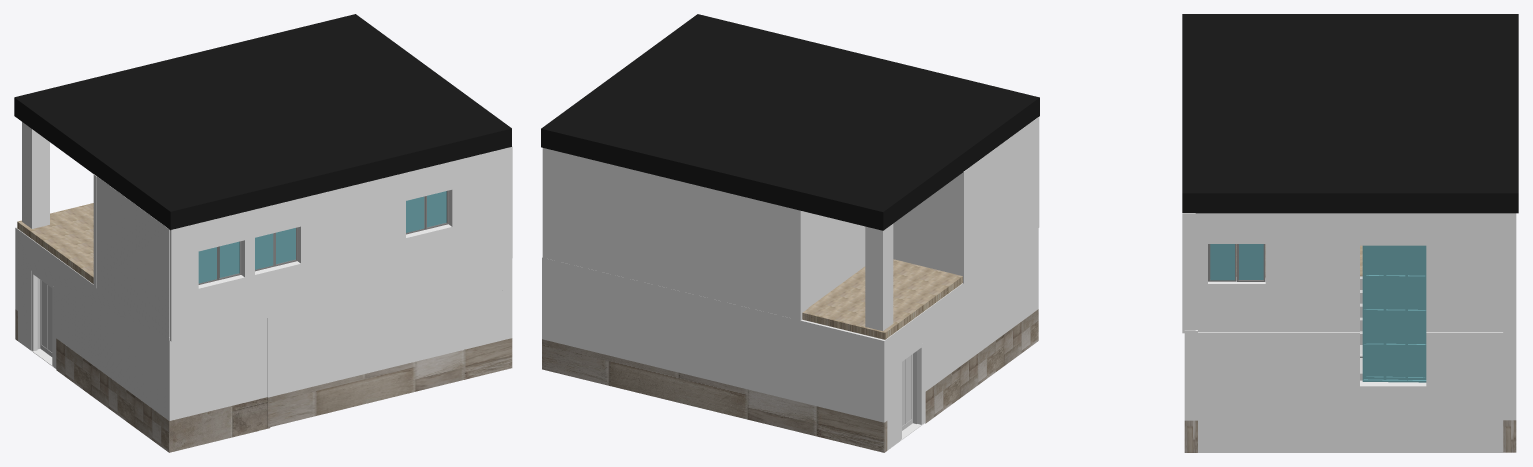
3 renders of one model, left to right at view 1: azimuth 30°, elevation 25°; view 2: azimuth 150°, elevation 25°; view 3: azimuth 270°, elevation 25°, orthographic. The views are drawn at different scales.
Parts seen in each view (by area): view 1: 房子屋頂, 二樓右牆, 二樓左牆001, 一樓正牆, 一樓右牆001, Box055, Box080, 750.695.20地板, 陽台柱子, PivotDoor004, 一樓右牆, Rectangle027 (+6 smaller); view 2: 房子屋頂, 一樓左牆, 二樓左牆, 一樓正牆, Box055, 750.695.20地板, 陽台外牆01, 陽台外牆, Box080, 陽台柱子, PivotDoor004, 一樓右牆001 (+1 smaller); view 3: 房子屋頂, 一樓後牆, 二樓後牆, FixedWindow001, 二樓左牆, 二樓左牆001, 一樓左牆, 二樓右牆, Rectangle013, Rectangle011.
Boxes of the visible parts, box(x1,y1,x2,y2) form: 房子屋頂: box(14, 14, 511, 230); 二樓右牆: box(169, 146, 512, 341); 二樓左牆001: box(267, 258, 512, 427); 一樓正牆: box(18, 229, 163, 416); 一樓右牆001: box(163, 320, 258, 452); Box055: box(97, 176, 169, 340); Box080: box(56, 338, 169, 452); 750.695.20地板: box(17, 203, 93, 283); 陽台柱子: box(22, 122, 49, 228); PivotDoor004: box(37, 278, 52, 356); 一樓右牆: box(258, 318, 270, 430); Rectangle027: box(219, 241, 239, 277); 房子屋頂: box(541, 14, 1039, 230); 一樓左牆: box(542, 257, 887, 452); 二樓左牆: box(542, 148, 808, 320); 一樓正牆: box(887, 233, 1032, 450); Box055: box(967, 117, 1038, 280); 750.695.20地板: box(802, 259, 962, 339); 陽台外牆01: box(893, 169, 966, 283); 陽台外牆: box(794, 209, 865, 321); Box080: box(925, 309, 1038, 423); 陽台柱子: box(865, 224, 893, 330); PivotDoor004: box(902, 351, 916, 430); 一樓右牆001: box(1032, 229, 1038, 312); 房子屋頂: box(1182, 14, 1518, 213); 一樓後牆: box(1198, 332, 1503, 452); 二樓後牆: box(1195, 213, 1500, 332); FixedWindow001: box(1362, 245, 1426, 382); 二樓左牆: box(1500, 213, 1516, 332); 二樓左牆001: box(1184, 330, 1197, 452); 一樓左牆: box(1503, 332, 1516, 452); 二樓右牆: box(1182, 213, 1195, 333); Rectangle013: box(1210, 244, 1234, 280); Rectangle011: box(1239, 244, 1263, 279).
Bounding box in the file's own units: 965 × 650 × 1020.
15 materials, 5 textured.
